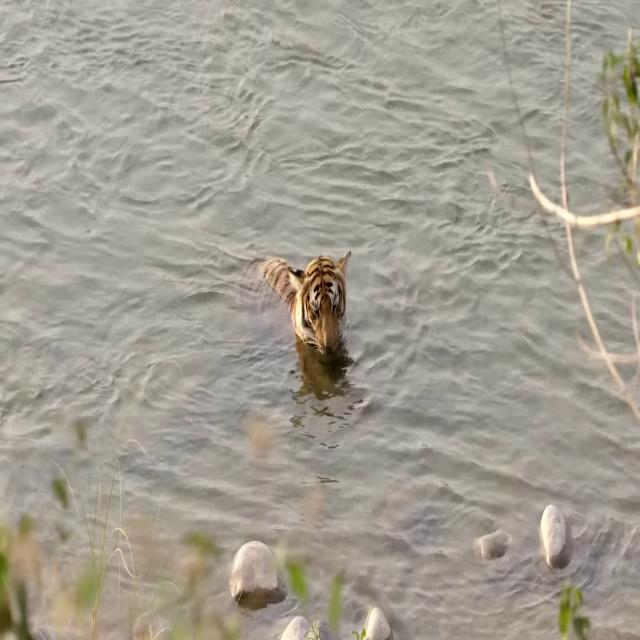tiger: (239, 250, 351, 355)
